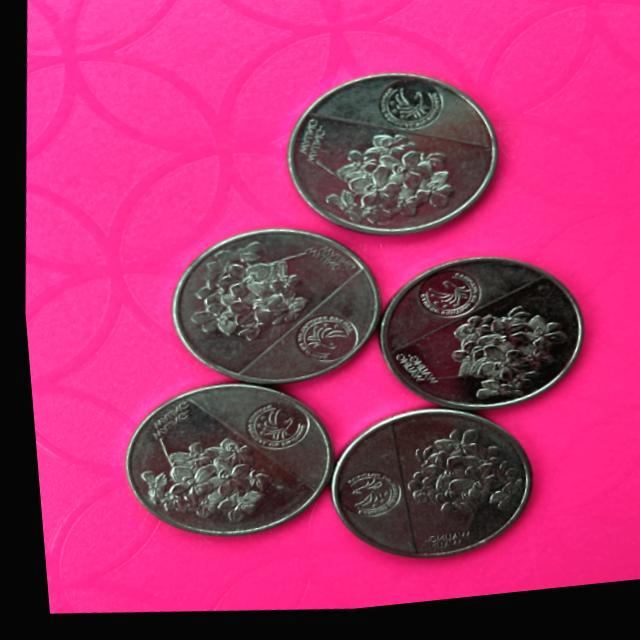1_New_Back: (169, 230, 326, 357), (124, 421, 282, 541), (299, 127, 473, 235), (417, 303, 564, 425), (379, 426, 516, 553)
